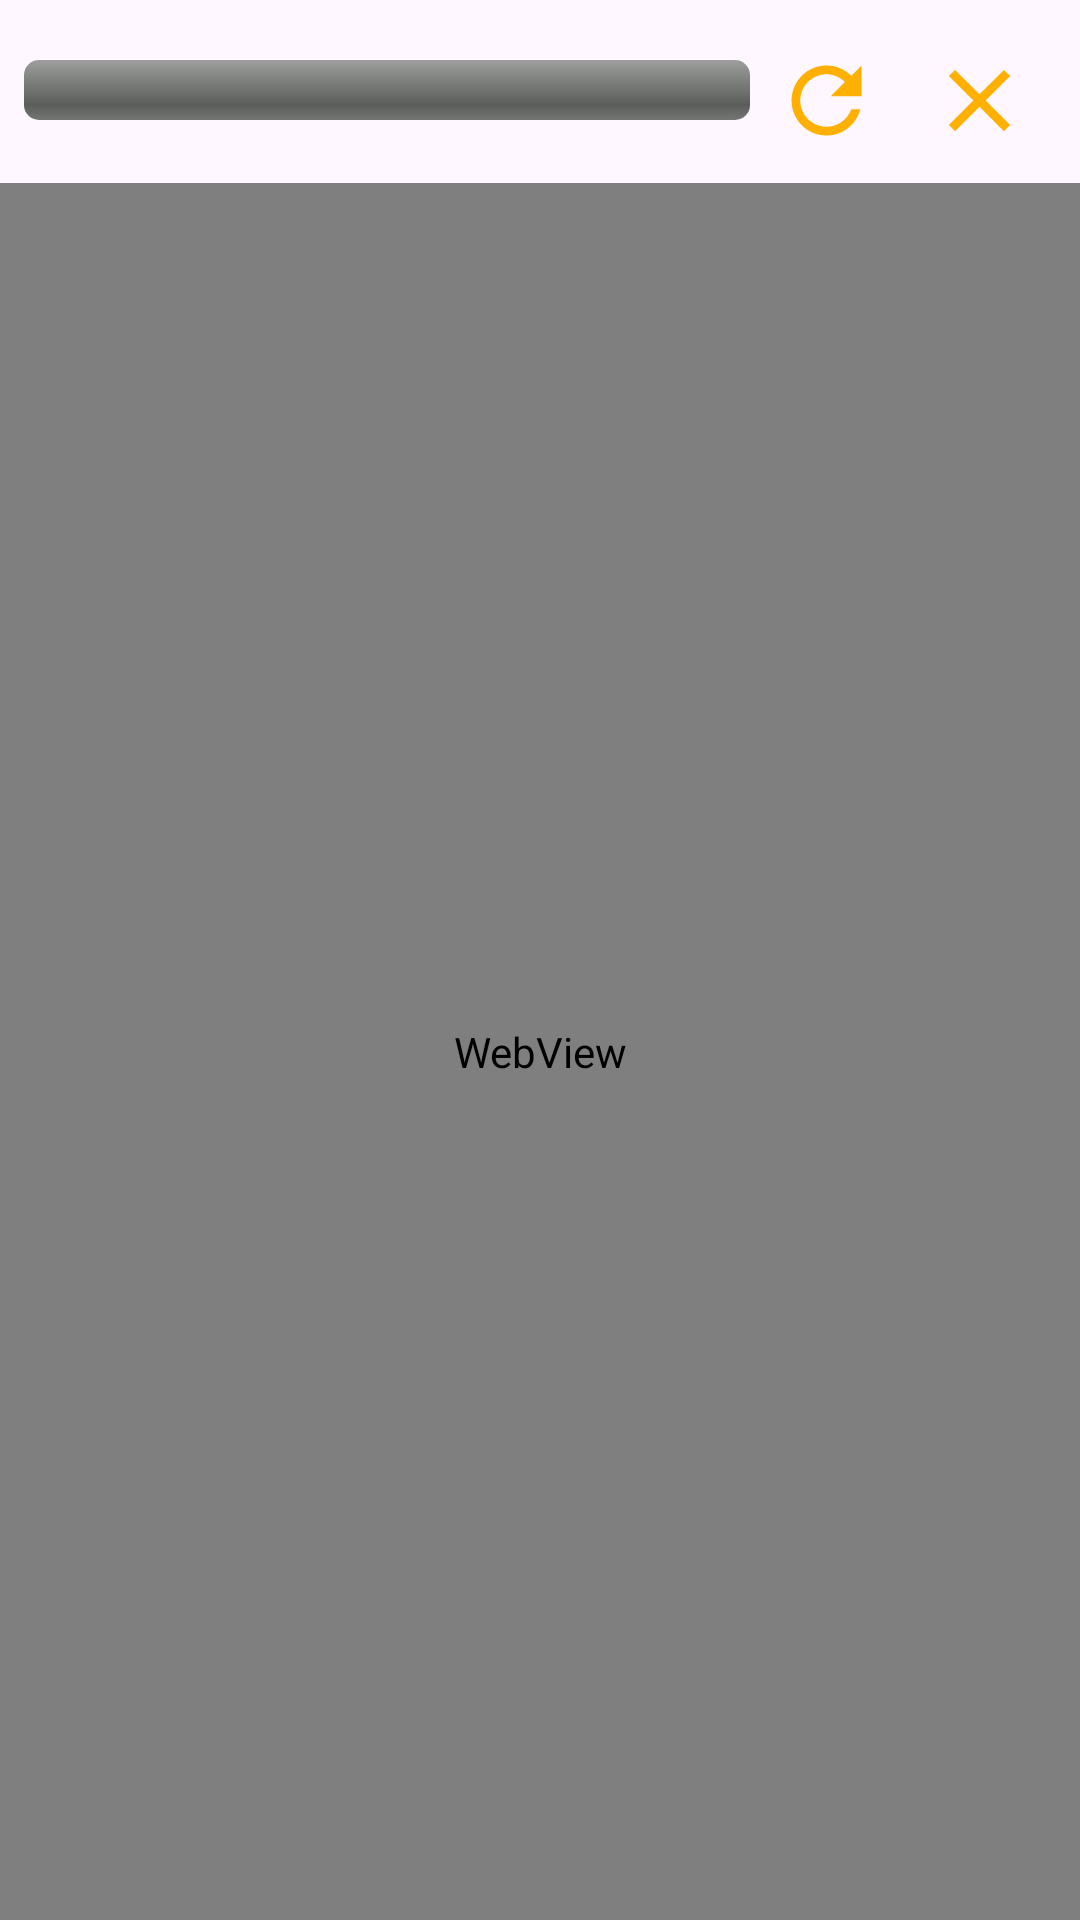

Where to tap for icons on this 1080px x 1920px app screen, as (x=x, y=y):
Close button: (x=979, y=100)
Reload button: (x=826, y=100)
